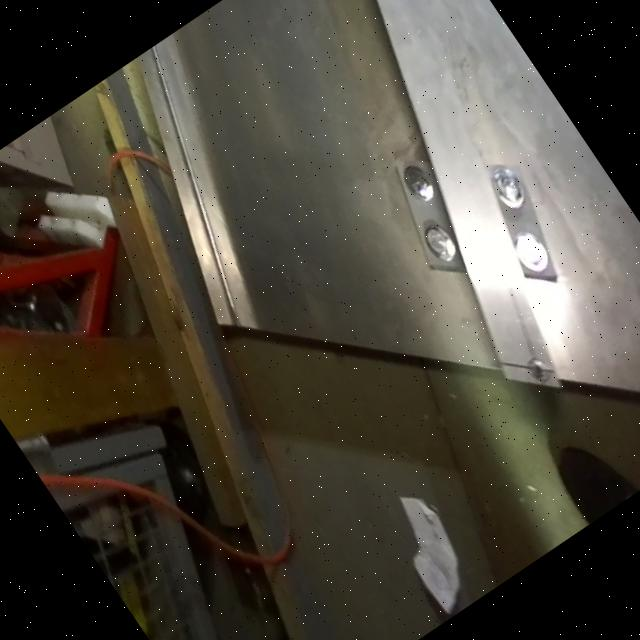blocks: (364, 98, 590, 344)
